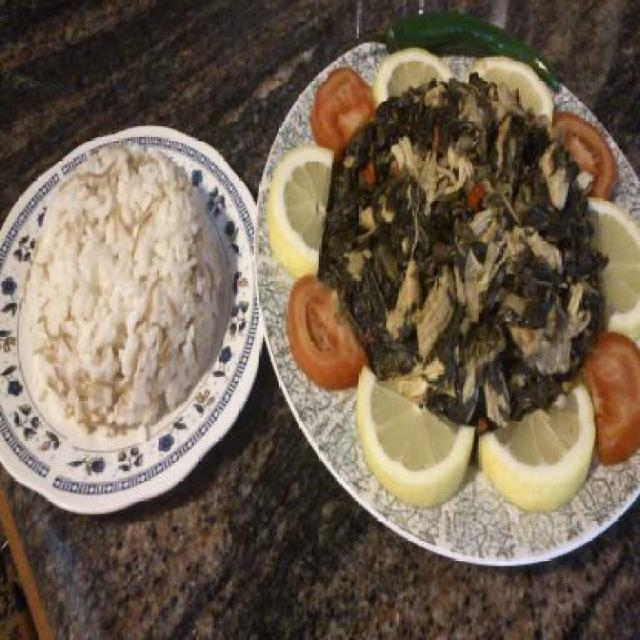fried rice: (26, 128, 228, 447)
molokhia: (321, 70, 605, 433)
